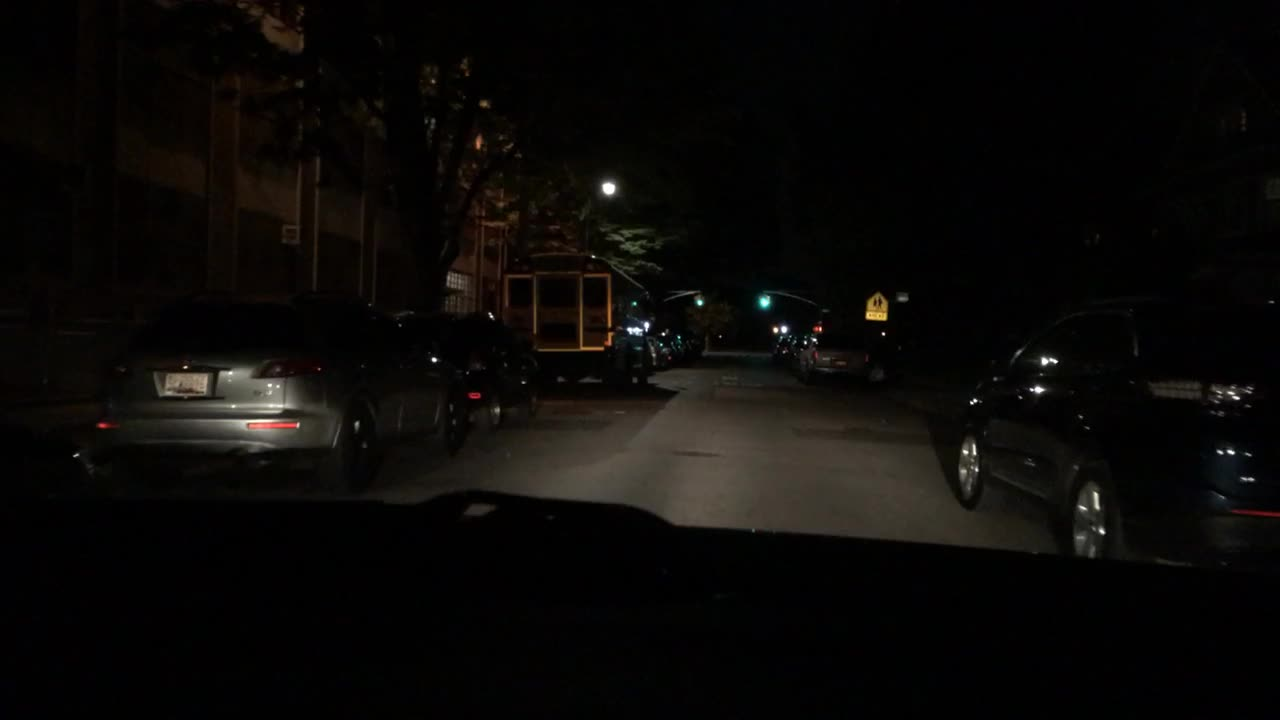bus: (497, 248, 656, 386)
car: (947, 293, 1277, 589), (80, 286, 471, 507), (398, 309, 545, 433), (795, 328, 878, 384), (645, 334, 670, 366), (781, 338, 804, 370), (666, 332, 686, 364), (683, 329, 702, 357), (768, 335, 786, 361)
traffic light: (695, 291, 704, 308), (760, 292, 768, 311)
traffic sign: (864, 290, 888, 320), (281, 225, 299, 246), (895, 290, 909, 303)
